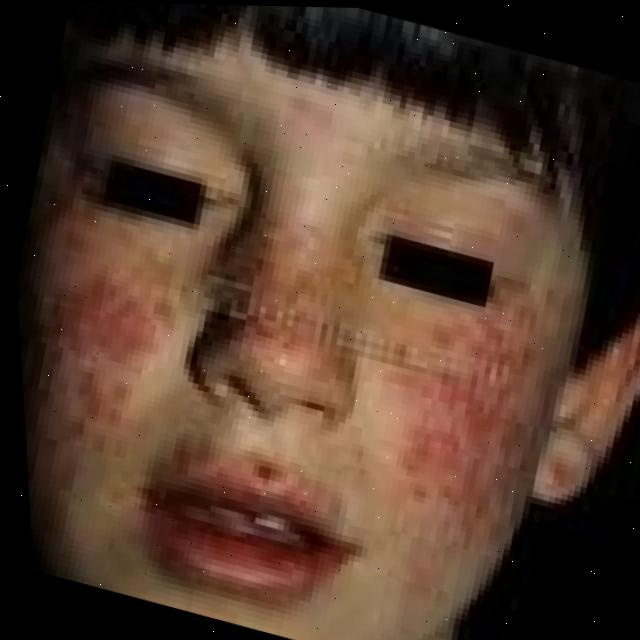Melasma: (339, 251, 601, 590), (13, 220, 224, 537)
